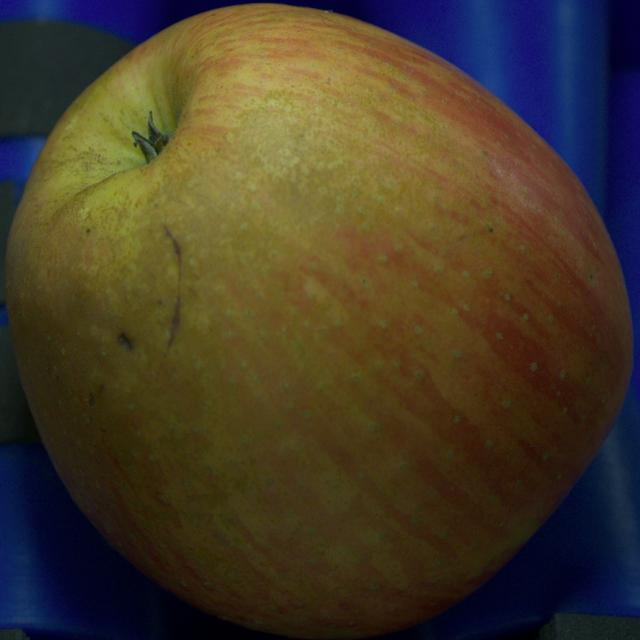apple: (5, 4, 631, 638)
pest: (118, 333, 132, 350), (87, 393, 94, 405)
scratch: (166, 228, 181, 347)
